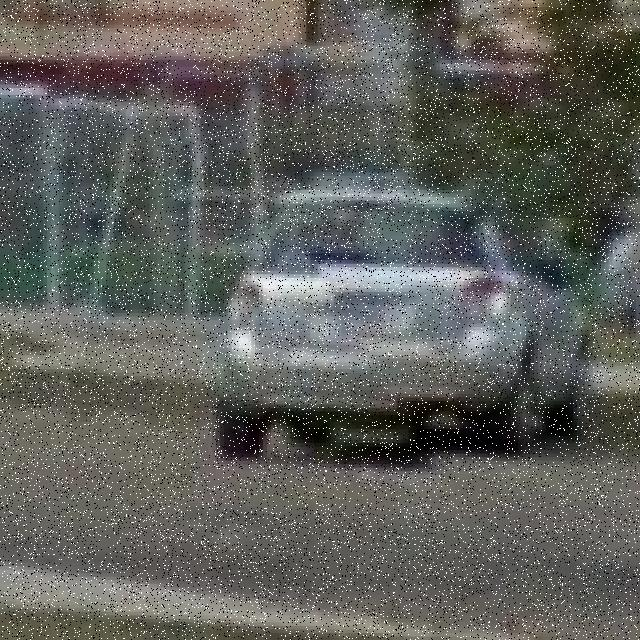cars: (232, 179, 588, 452)
